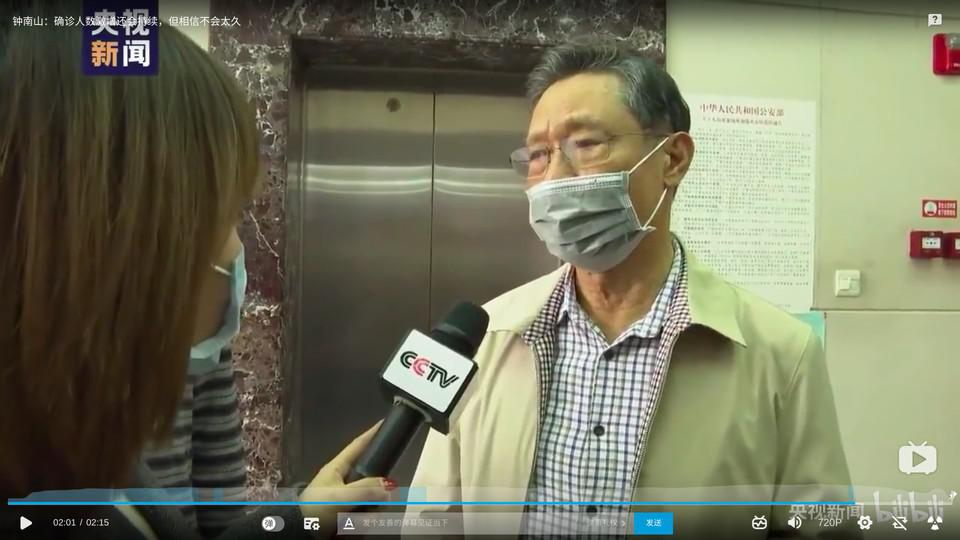WRONG: (525, 102, 646, 274)
